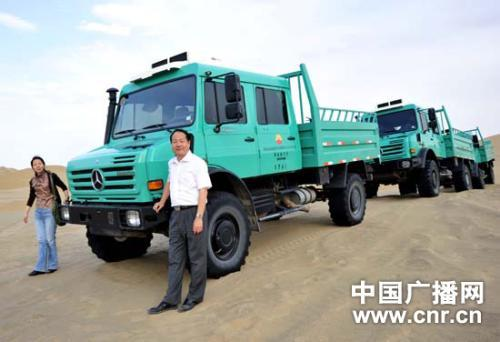up: (141, 126, 214, 314), (14, 154, 75, 281)
